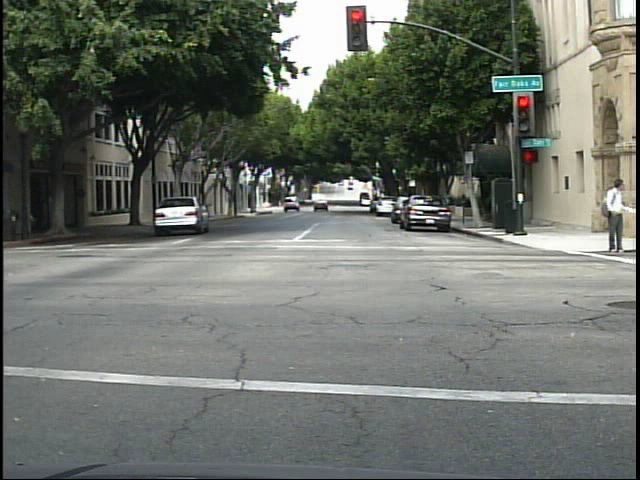person: (595, 170, 638, 258)
